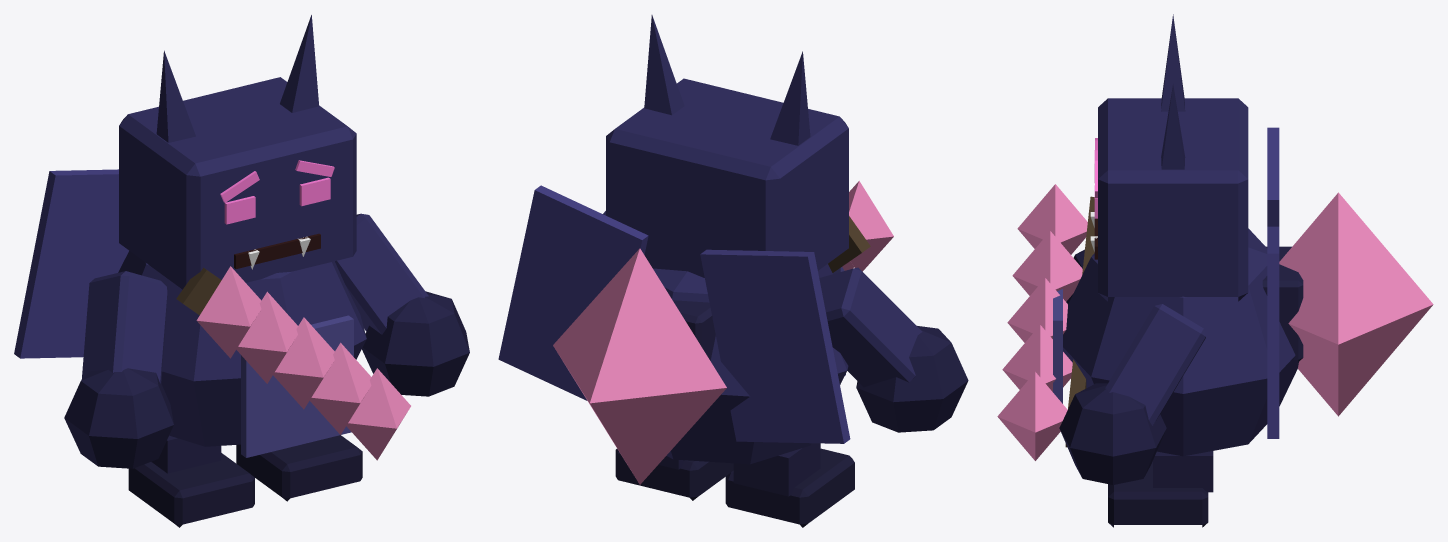
The model's file is r12_mini_bat_bomber.glb.
The picture shows the model from 3 angles, left to right: view 1: azimuth 30°, elevation 25°; view 2: azimuth 150°, elevation 25°; view 3: azimuth 270°, elevation 25°; orthographic projection. The views are drawn at different scales.
Visible parts, largest first — view 1: r12_mini_bat_bomber_mesh; view 2: r12_mini_bat_bomber_mesh; view 3: r12_mini_bat_bomber_mesh.
Boxes of the visible parts, x1,y1,x2,y2 form: r12_mini_bat_bomber_mesh: (14, 15, 469, 527); r12_mini_bat_bomber_mesh: (498, 15, 968, 527); r12_mini_bat_bomber_mesh: (997, 14, 1433, 527).
Size of the model in its own units: 3.25 by 3.6 by 3.26.
1 material, 1 textured.
